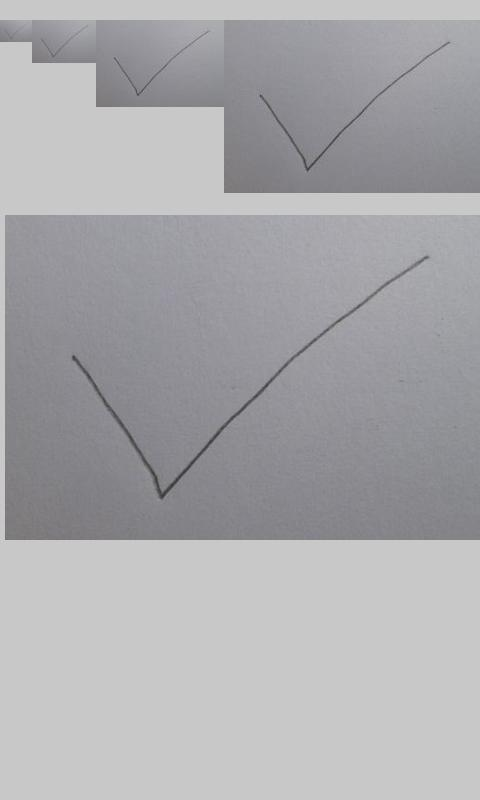check_box: (72, 256, 426, 502), (260, 41, 450, 173), (113, 30, 210, 96), (41, 25, 88, 58), (4, 23, 25, 39)
